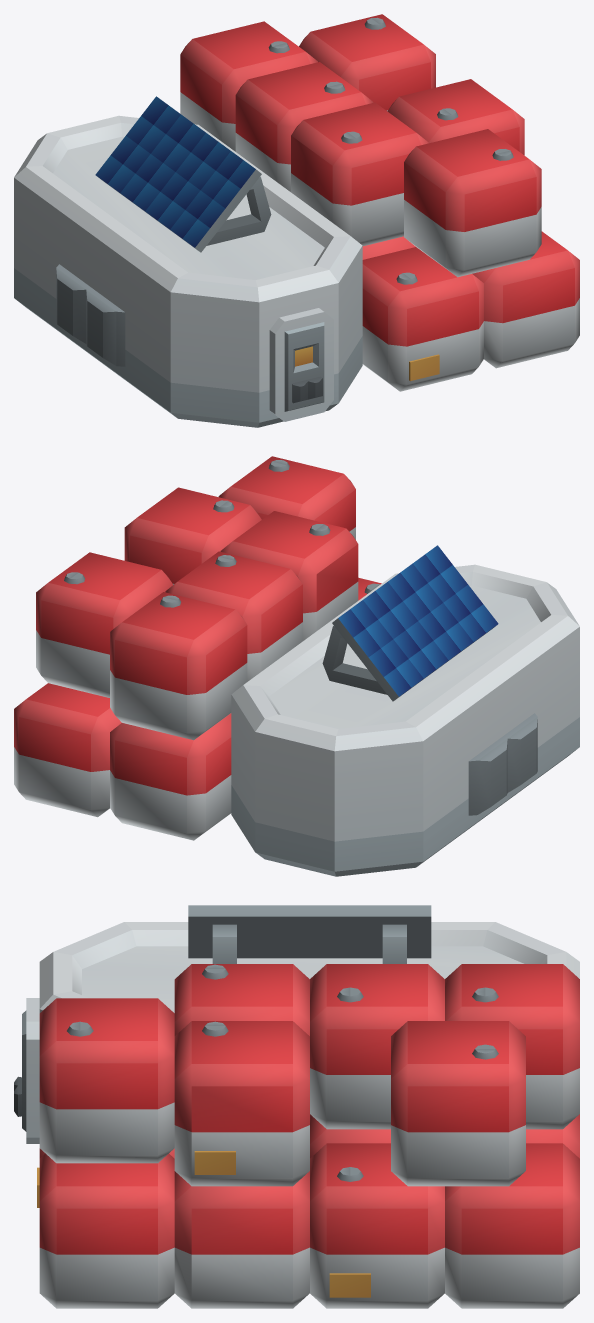
File: cargodepot_c.glb
3 renders of one model, top to bottom at view 1: azimuth 30°, elevation 25°; view 2: azimuth 150°, elevation 25°; view 3: azimuth 270°, elevation 25°, orthographic. The views are drawn at different scales.
Parts seen in each view (by area): view 1: cargodepot_C; view 2: cargodepot_C; view 3: cargodepot_C.
Boxes of the visible parts, x1,y1,x2,y2 form: cargodepot_C: (14, 14, 579, 427); cargodepot_C: (14, 456, 579, 876); cargodepot_C: (14, 905, 579, 1308).
Size of the model in its own units: 6.22 by 3.06 by 6.29.
1 material, 1 textured.
